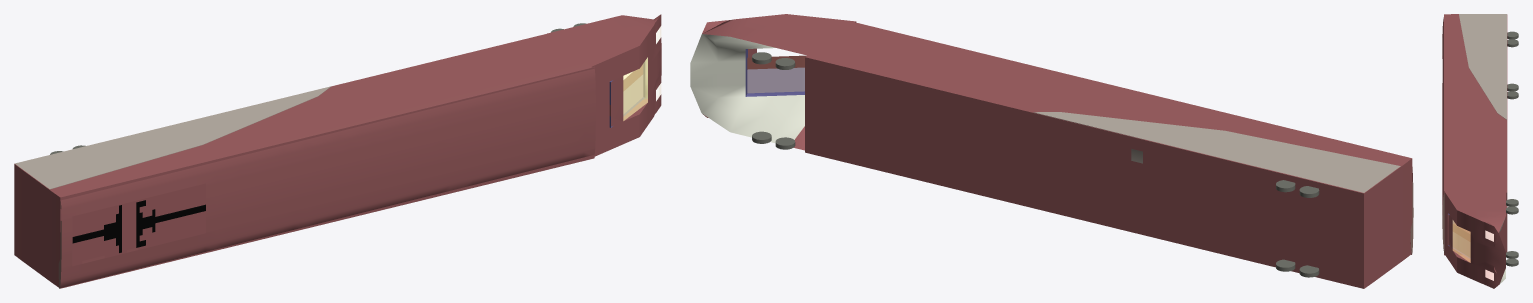
Rendered from asset7.glb.
3 renders of one model, left to right at view 1: azimuth 30°, elevation 25°; view 2: azimuth 150°, elevation 25°; view 3: azimuth 270°, elevation 25°, orthographic. The views are drawn at different scales.
Visible parts, largest first — view 1: Cylinder2, Cube1_copy12, Cylinder13, Cylinder13_copy14, Cube13_copy14, Cube13_copy16; view 2: Cube1_copy12, Cylinder13, Cylinder13_copy14; view 3: Cube1_copy12, Cylinder13, Cylinder13_copy14, Cylinder2, Cylinder4_copy7, Cylinder4_copy6, Cylinder4_copy11, Cylinder4_copy10, Cylinder4_copy8, Cylinder4_copy5, Cylinder4, Cylinder4_copy9.
Part boxes in pixels (x1=…): Cylinder2: x1=58, y1=68, x2=595, y2=288; Cube1_copy12: x1=14, y1=34, x2=594, y2=288; Cylinder13: x1=547, y1=14, x2=661, y2=156; Cylinder13_copy14: x1=15, y1=86, x2=330, y2=189; Cube13_copy14: x1=136, y1=200, x2=155, y2=247; Cube13_copy16: x1=104, y1=205, x2=121, y2=252; Cube1_copy12: x1=805, y1=22, x2=1412, y2=288; Cylinder13: x1=690, y1=14, x2=856, y2=150; Cylinder13_copy14: x1=1033, y1=112, x2=1400, y2=192; Cube1_copy12: x1=1444, y1=14, x2=1507, y2=255; Cylinder13: x1=1444, y1=191, x2=1505, y2=288; Cylinder13_copy14: x1=1459, y1=14, x2=1506, y2=119; Cylinder2: x1=1442, y1=17, x2=1444, y2=253; Cylinder4_copy7: x1=1506, y1=206, x2=1518, y2=214; Cylinder4_copy6: x1=1506, y1=258, x2=1518, y2=266; Cylinder4_copy11: x1=1506, y1=199, x2=1518, y2=206; Cylinder4_copy10: x1=1506, y1=251, x2=1518, y2=258; Cylinder4_copy8: x1=1507, y1=91, x2=1518, y2=99; Cylinder4_copy5: x1=1507, y1=31, x2=1518, y2=39; Cylinder4: x1=1507, y1=83, x2=1518, y2=91; Cylinder4_copy9: x1=1507, y1=39, x2=1518, y2=47.
Size of the model in its own units: 0.947 by 0.1306 by 0.1417.
